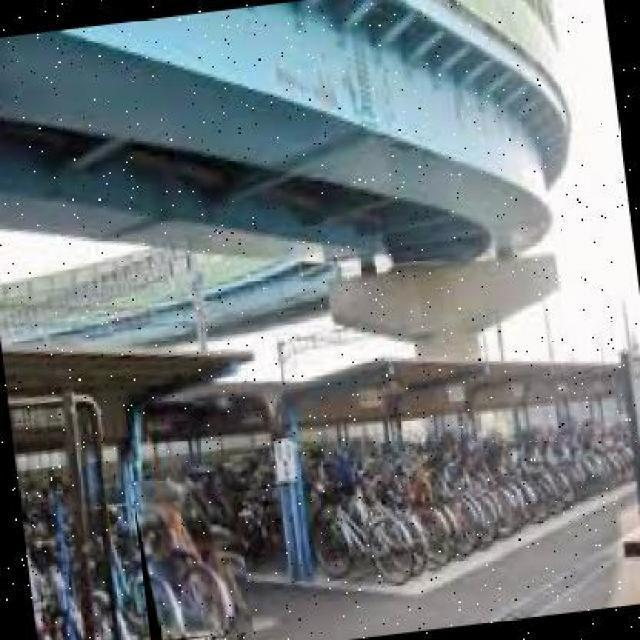bicycle: (129, 472, 254, 640)
